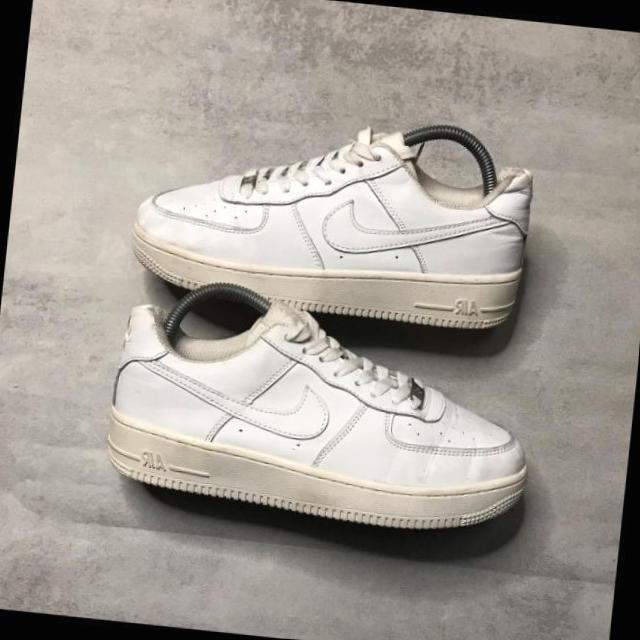nike_fake_airforce: (86, 282, 545, 541), (122, 87, 548, 331)
